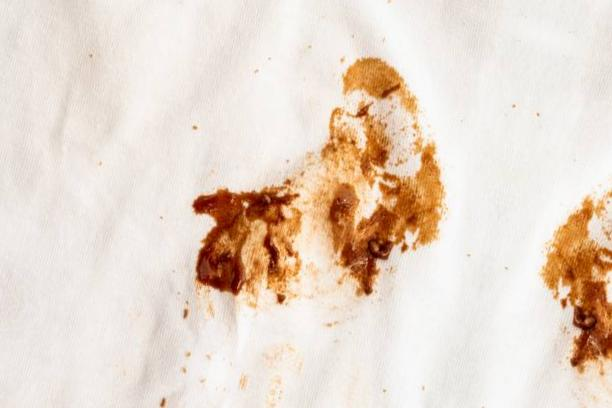stain: (181, 53, 451, 316), (535, 186, 612, 383)
